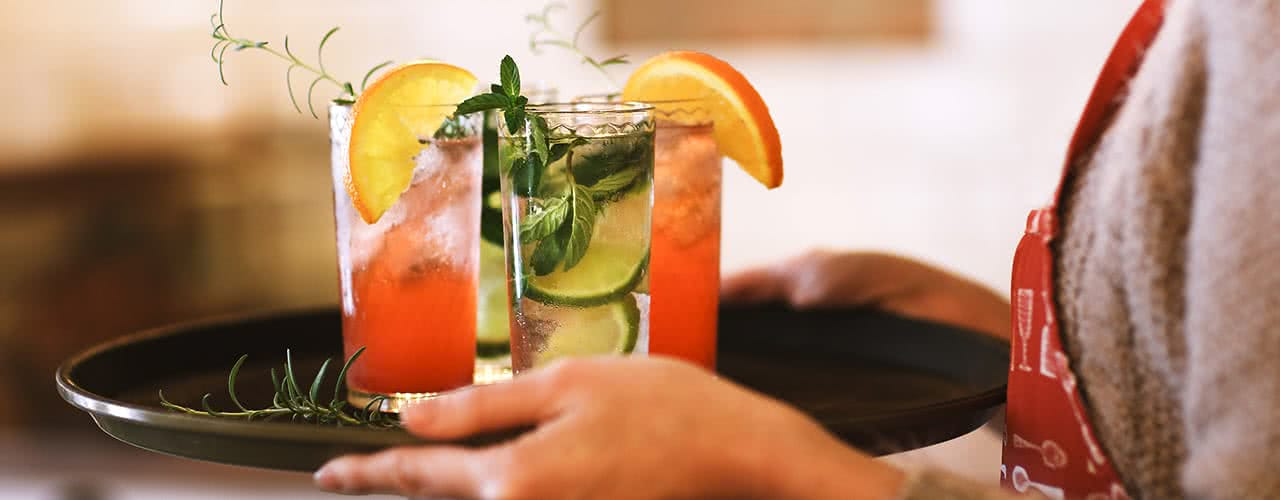Nonrec_Glass: (494, 85, 666, 371), (324, 93, 479, 400), (647, 92, 730, 377)
Organik: (615, 48, 798, 189), (338, 60, 485, 229), (491, 77, 604, 279)
